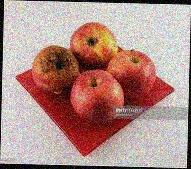red apple: (70, 66, 127, 125), (106, 46, 159, 101), (70, 21, 120, 67)
rotten apple: (31, 44, 79, 96)
